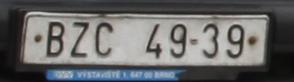-: (190, 39, 198, 45)
3: (203, 24, 219, 58)
4: (146, 24, 162, 58)
9: (227, 24, 244, 59), (170, 24, 186, 58)
B: (47, 21, 63, 57)
C: (95, 22, 113, 56)
Z: (72, 22, 87, 57)
